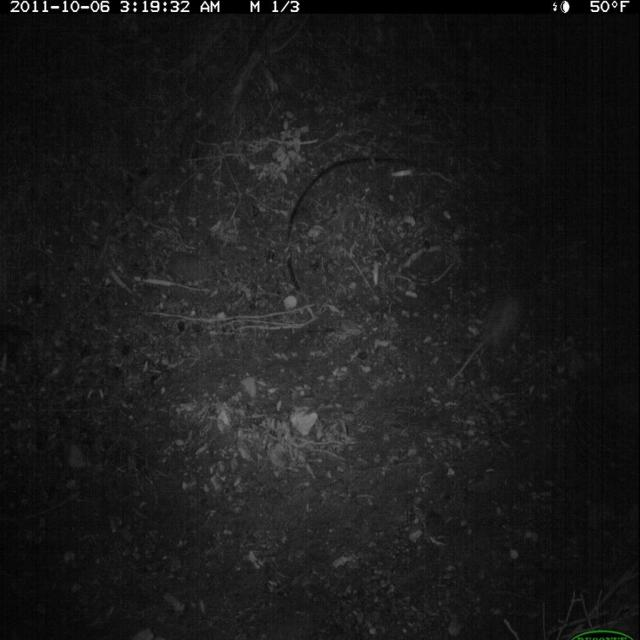opossum: (450, 278, 536, 396)
